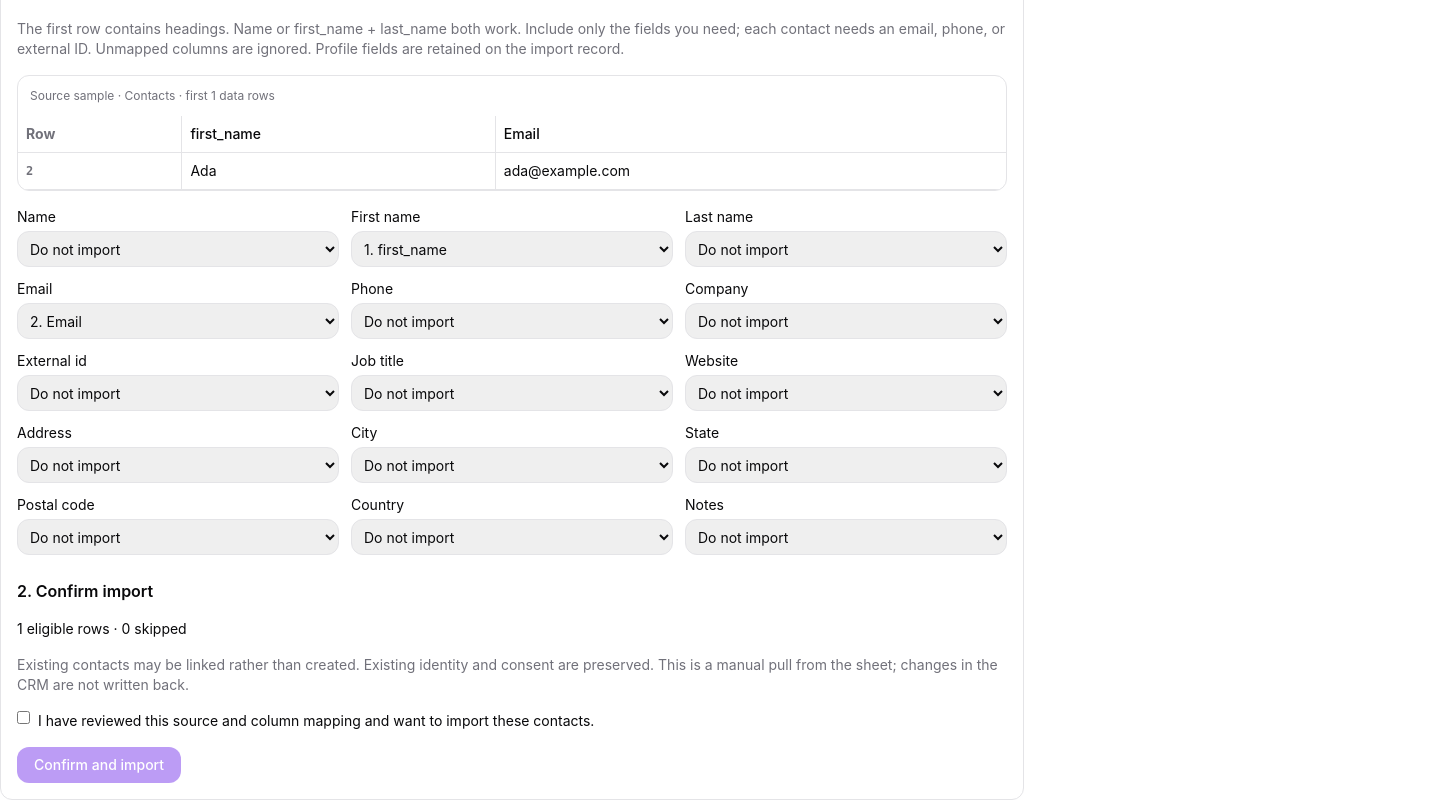
Test: Google Sheets source review › requires a new review when the column mapping changes
(page scrolled)
Expected: the text "ada@example.com" is shown, [495,152,1006,190]
Click the checkbox at (24,718), box [17,711,30,724]
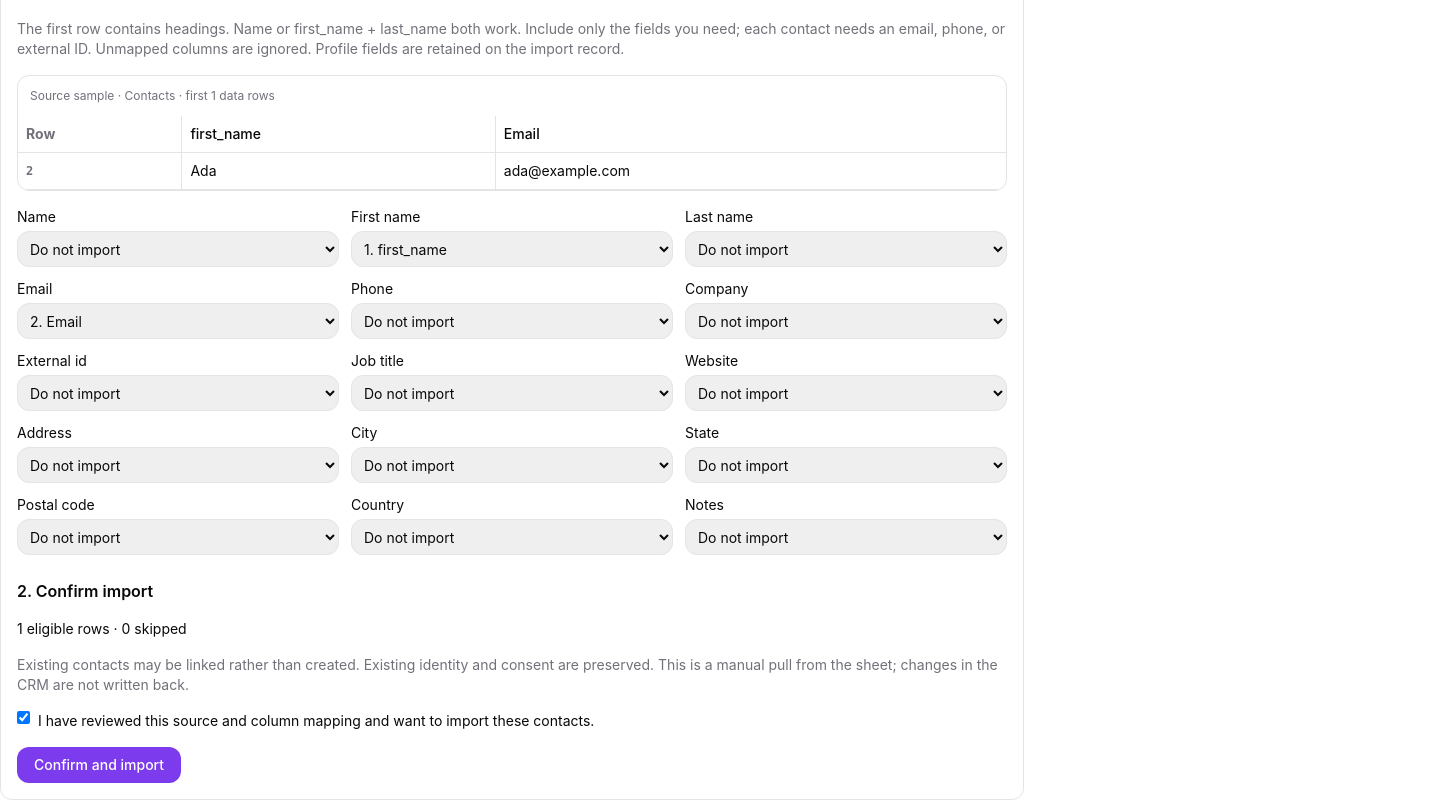
Select "Do not import" in the dropdown labelled "First name" at (512,249), box [351,231,673,267]
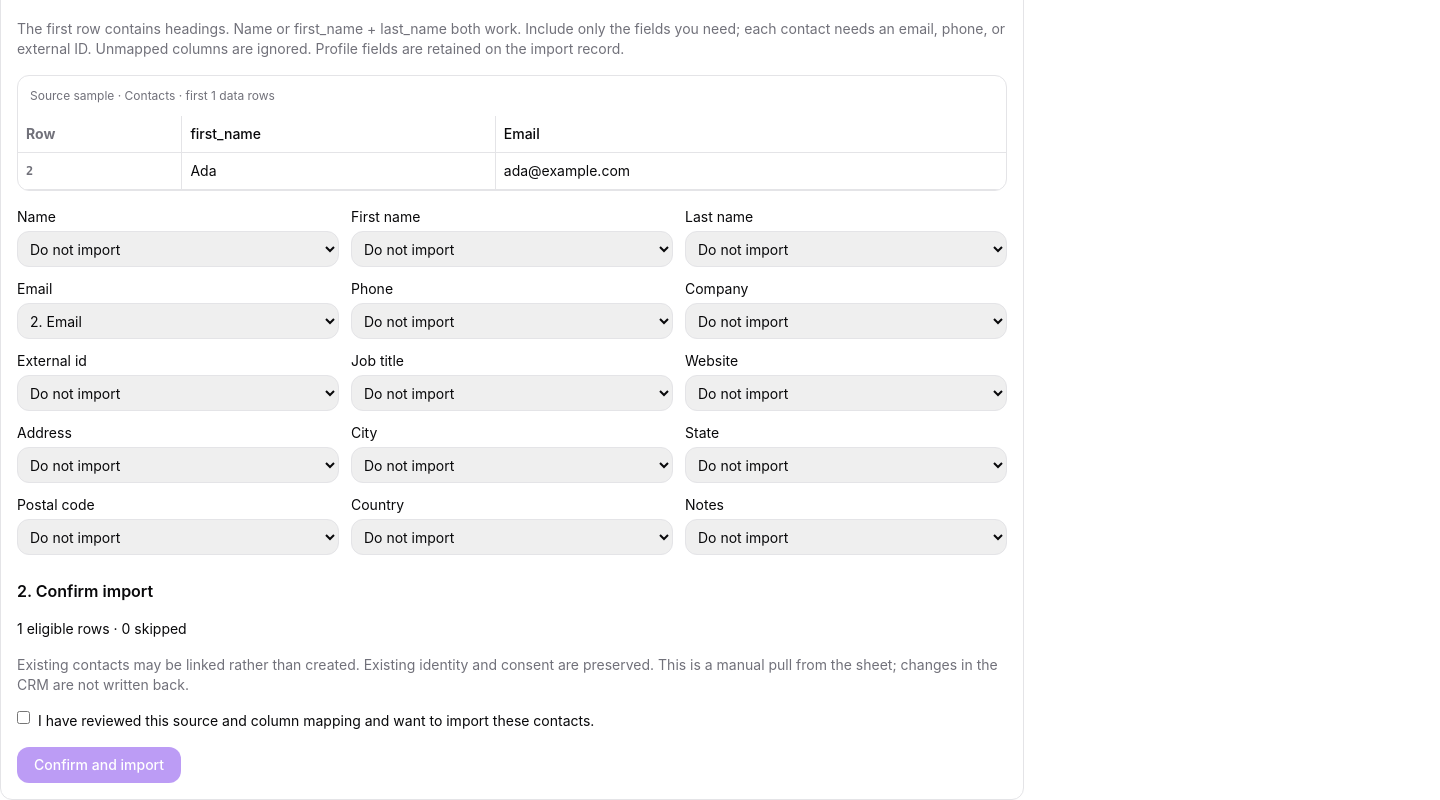
Now the checkbox is not checked, box [17,711,30,724]
Now the button "Confirm and import" is disabled, box [17,747,181,783]
